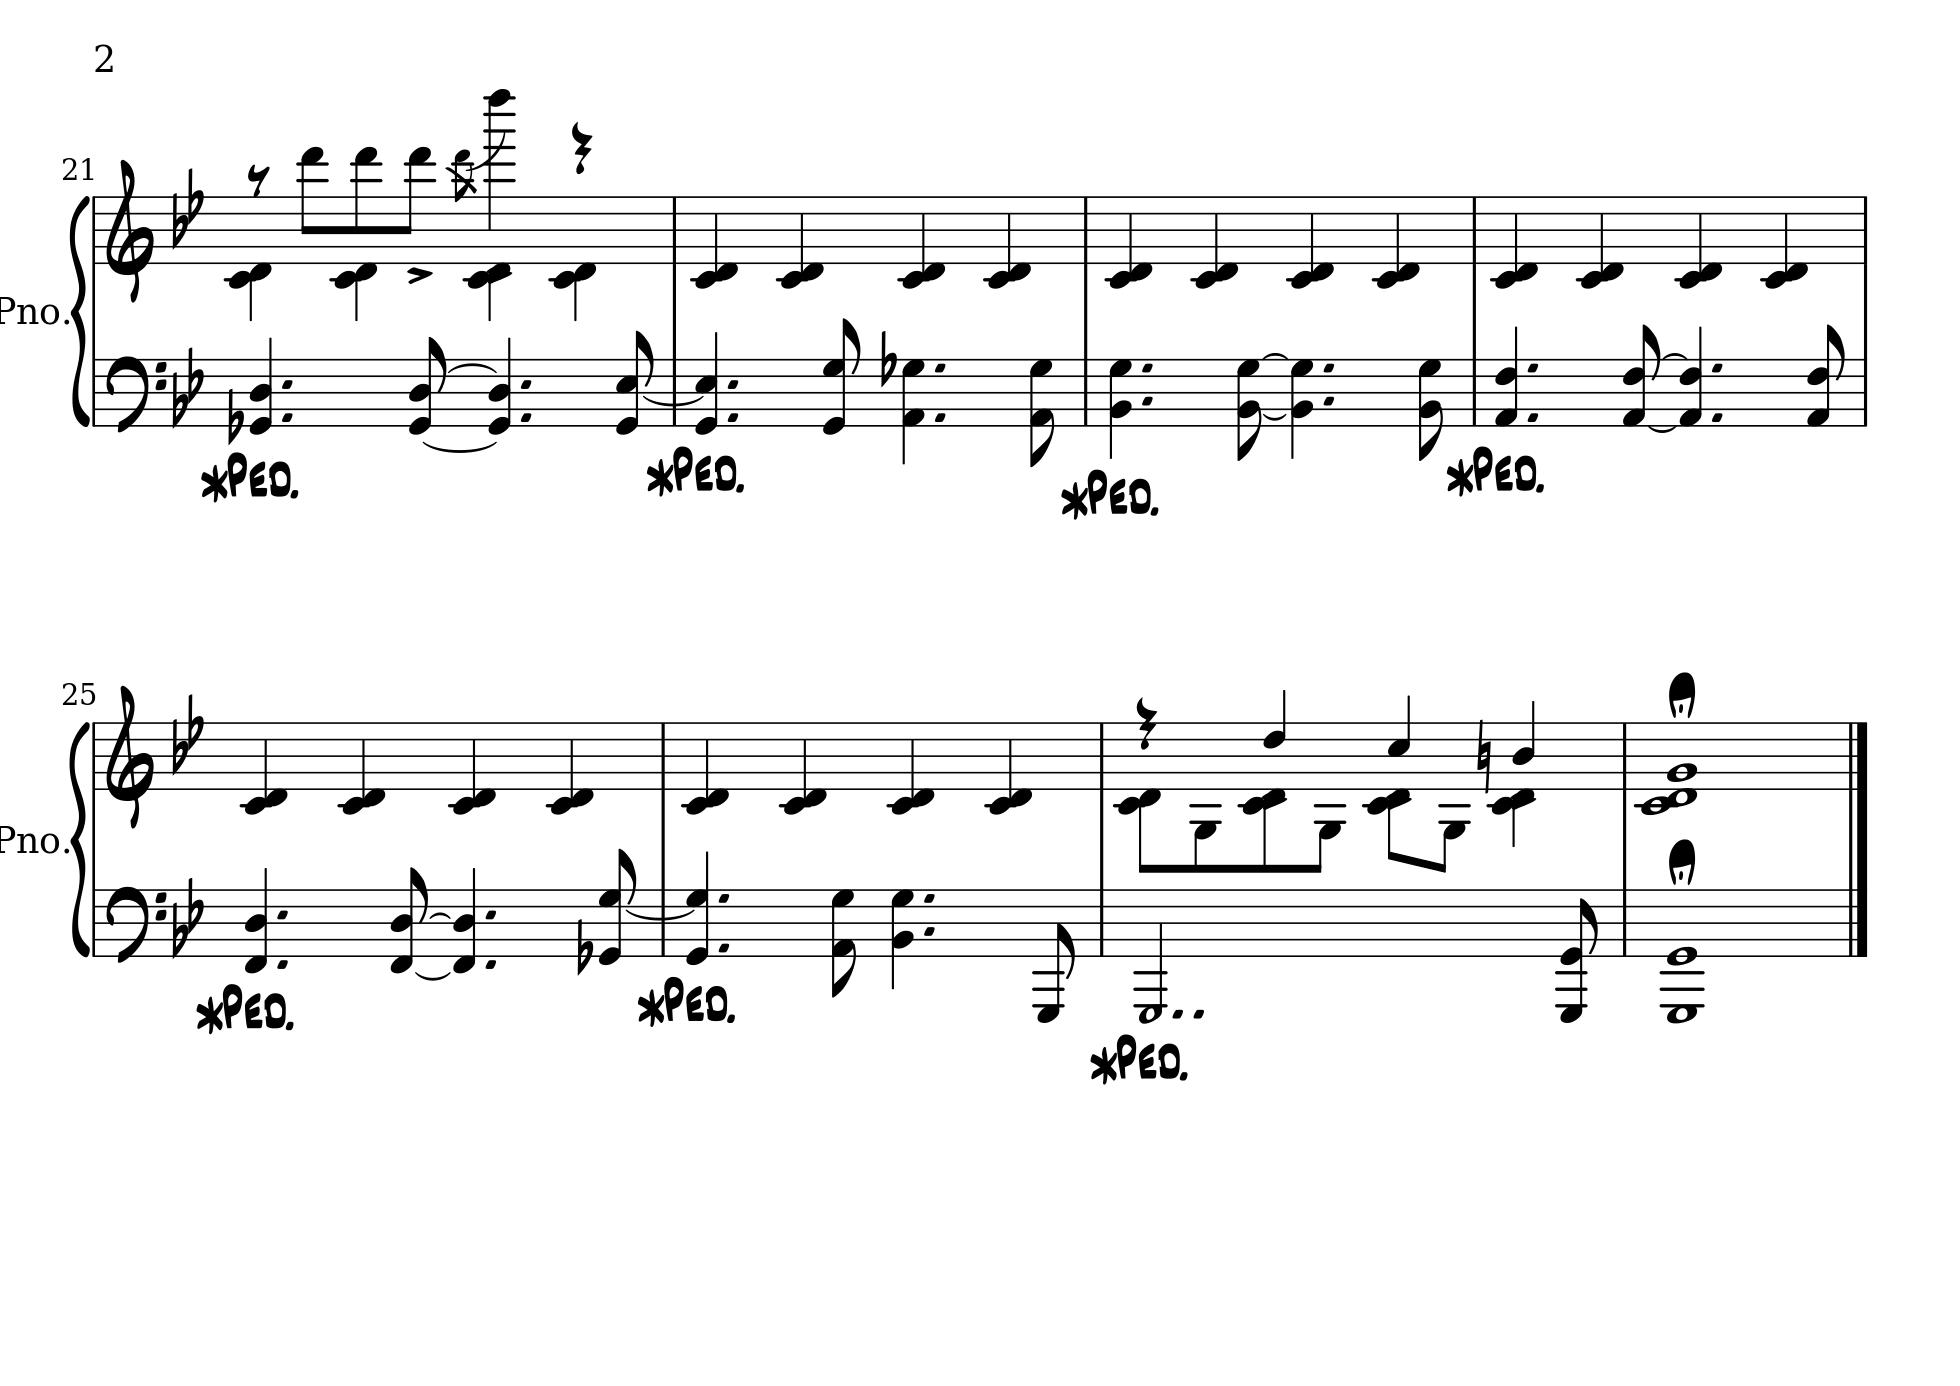1: (79, 154, 94, 183)
16_-3: (1314, 721, 1347, 871), (1191, 721, 1221, 873)
1_-7_0: (1659, 888, 1710, 1024)
1_th: (1636, 720, 1701, 816)
2: (91, 40, 115, 73), (58, 679, 79, 708), (60, 154, 79, 183)
2_-7: (1134, 886, 1168, 1021)
4_-1_4: (241, 864, 273, 976), (450, 868, 478, 976)
4_-2_-1: (463, 193, 516, 319), (550, 193, 603, 319), (226, 196, 277, 322), (895, 193, 946, 289), (676, 718, 727, 814), (688, 193, 739, 288), (1188, 195, 1239, 289), (1371, 192, 1422, 286), (1105, 193, 1155, 289), (1489, 193, 1539, 289), (1758, 193, 1807, 289), (237, 718, 286, 814), (334, 718, 384, 814), (883, 718, 933, 814), (987, 718, 1036, 814), (775, 192, 825, 286), (984, 193, 1033, 288), (1284, 193, 1333, 288), (1573, 193, 1623, 288), (1672, 193, 1722, 288), (447, 720, 496, 814), (546, 718, 595, 813), (778, 718, 828, 813)
4_0_4: (247, 331, 276, 433), (487, 334, 514, 436)
4_0_5: (693, 333, 721, 435)
4_0_7: (682, 850, 711, 966)
4_1_6: (1678, 324, 1705, 429), (1495, 322, 1522, 427)
4_1_7: (829, 886, 856, 1000)
4_2_7: (889, 886, 916, 991), (1290, 355, 1317, 457), (1107, 355, 1134, 456), (900, 357, 927, 457)
5: (79, 678, 96, 706)
8_-1_4: (388, 865, 430, 975)
8_-2_-1: (1113, 721, 1167, 873)
8_-5: (1438, 724, 1470, 873)
8_-7: (1033, 886, 1075, 1024)
8_-7_0: (1555, 886, 1602, 1024)
8_0_4: (406, 328, 450, 436)
8_0_5: (613, 328, 658, 438)
8_0_7: (598, 847, 640, 967), (820, 316, 861, 436)
8_13: (400, 145, 433, 264), (295, 145, 327, 264), (351, 145, 379, 259)
8_1_6: (1806, 321, 1846, 430), (1621, 321, 1662, 430)
8_2_7: (1029, 355, 1059, 463), (1416, 358, 1446, 465), (1236, 357, 1264, 463)
Accent_above: (405, 265, 433, 283)
Acciaccature: (448, 148, 477, 265)
B_F: (169, 166, 205, 250), (169, 691, 205, 775), (169, 343, 204, 427), (171, 874, 204, 957)
Brace: (69, 718, 91, 958), (70, 193, 90, 426)
Double_dot: (1171, 1003, 1209, 1021)
Fclef: (103, 352, 166, 436), (103, 883, 166, 966)
Final_barline: (1845, 720, 1872, 787), (1843, 888, 1869, 955)
Flat: (877, 328, 897, 388), (574, 916, 594, 976), (225, 385, 244, 444)
Gclef: (103, 157, 156, 304), (103, 682, 154, 829)
Natural: (1474, 715, 1494, 795)
Pno: (1, 292, 60, 328), (1, 822, 60, 856)
Rests4: (567, 118, 595, 175), (1134, 694, 1159, 751)
Rests8: (244, 162, 271, 196)
Single_barline: (1092, 888, 1111, 955), (666, 196, 684, 262), (1093, 721, 1111, 787), (1857, 358, 1873, 426), (1617, 888, 1633, 955), (1078, 196, 1095, 262), (1617, 721, 1633, 787), (1078, 358, 1095, 421), (666, 357, 682, 418), (655, 886, 670, 954), (1467, 196, 1482, 262), (1858, 196, 1873, 262), (655, 721, 670, 787), (88, 721, 102, 793), (1467, 358, 1482, 421), (88, 196, 100, 265), (87, 699, 100, 759), (88, 358, 100, 424), (88, 889, 100, 954)
Slur: (421, 438, 498, 451), (639, 906, 687, 925), (643, 394, 703, 406), (447, 361, 499, 375), (414, 969, 453, 979), (1647, 424, 1680, 433), (1263, 351, 1290, 361), (1263, 411, 1288, 421), (1662, 351, 1689, 360), (427, 910, 453, 919)
dot: (481, 955, 499, 970), (1140, 358, 1155, 375), (1708, 360, 1725, 375), (517, 376, 534, 391), (1710, 408, 1725, 424), (517, 409, 534, 424), (921, 889, 937, 904), (481, 906, 498, 921), (274, 955, 291, 970), (931, 358, 946, 373), (279, 376, 294, 391), (1140, 391, 1155, 406), (1321, 391, 1336, 406), (715, 889, 730, 904), (921, 922, 936, 937), (1525, 358, 1539, 373), (1321, 360, 1336, 373), (724, 376, 739, 390), (279, 409, 294, 423), (724, 409, 739, 423), (274, 907, 289, 921), (715, 940, 730, 954), (933, 409, 946, 423), (1527, 409, 1540, 423)
